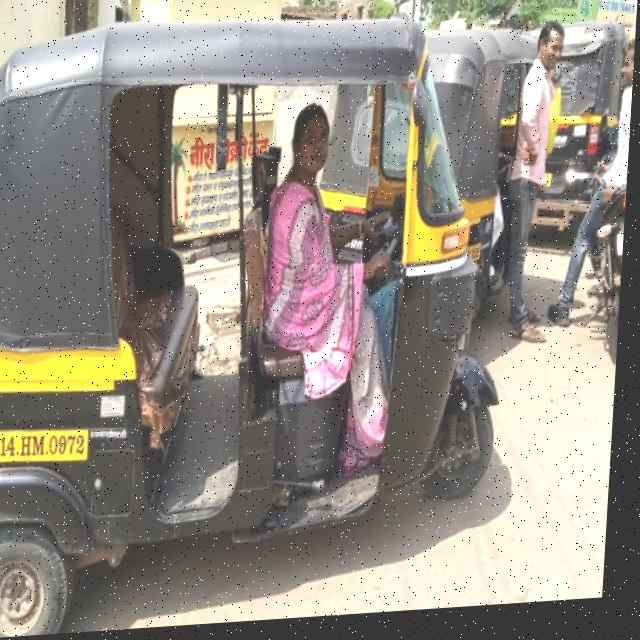plate: (0, 416, 99, 474), (616, 234, 628, 265)
